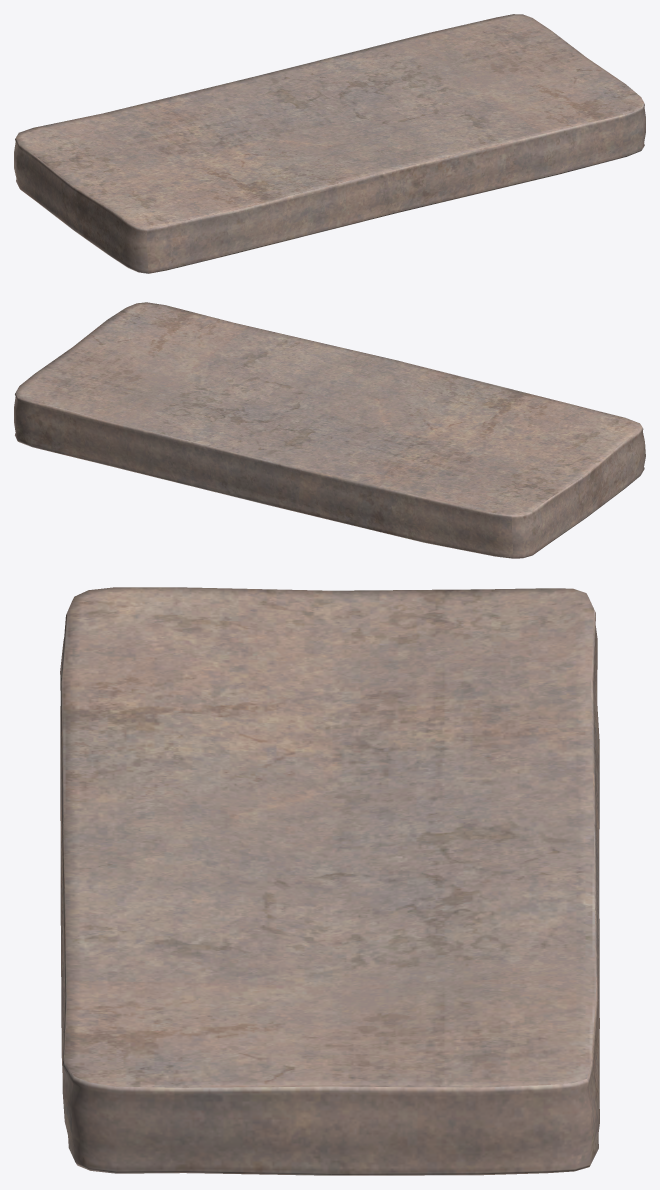
Rendered from SingleMatress.fbx.
3 views of the same model, one above another, from view 1: azimuth 30°, elevation 25°; view 2: azimuth 150°, elevation 25°; view 3: azimuth 270°, elevation 25° (orthographic). The views are drawn at different scales.
Parts seen in each view (by area): view 1: SM_BedSingleMatress_LOD0; view 2: SM_BedSingleMatress_LOD0; view 3: SM_BedSingleMatress_LOD0.
Boxes of the visible parts, bbox=[...] form: SM_BedSingleMatress_LOD0: bbox=[14, 14, 645, 273]; SM_BedSingleMatress_LOD0: bbox=[14, 302, 645, 558]; SM_BedSingleMatress_LOD0: bbox=[60, 587, 599, 1175].
Size of the model in its own units: 197 by 17.47 by 88.92.
